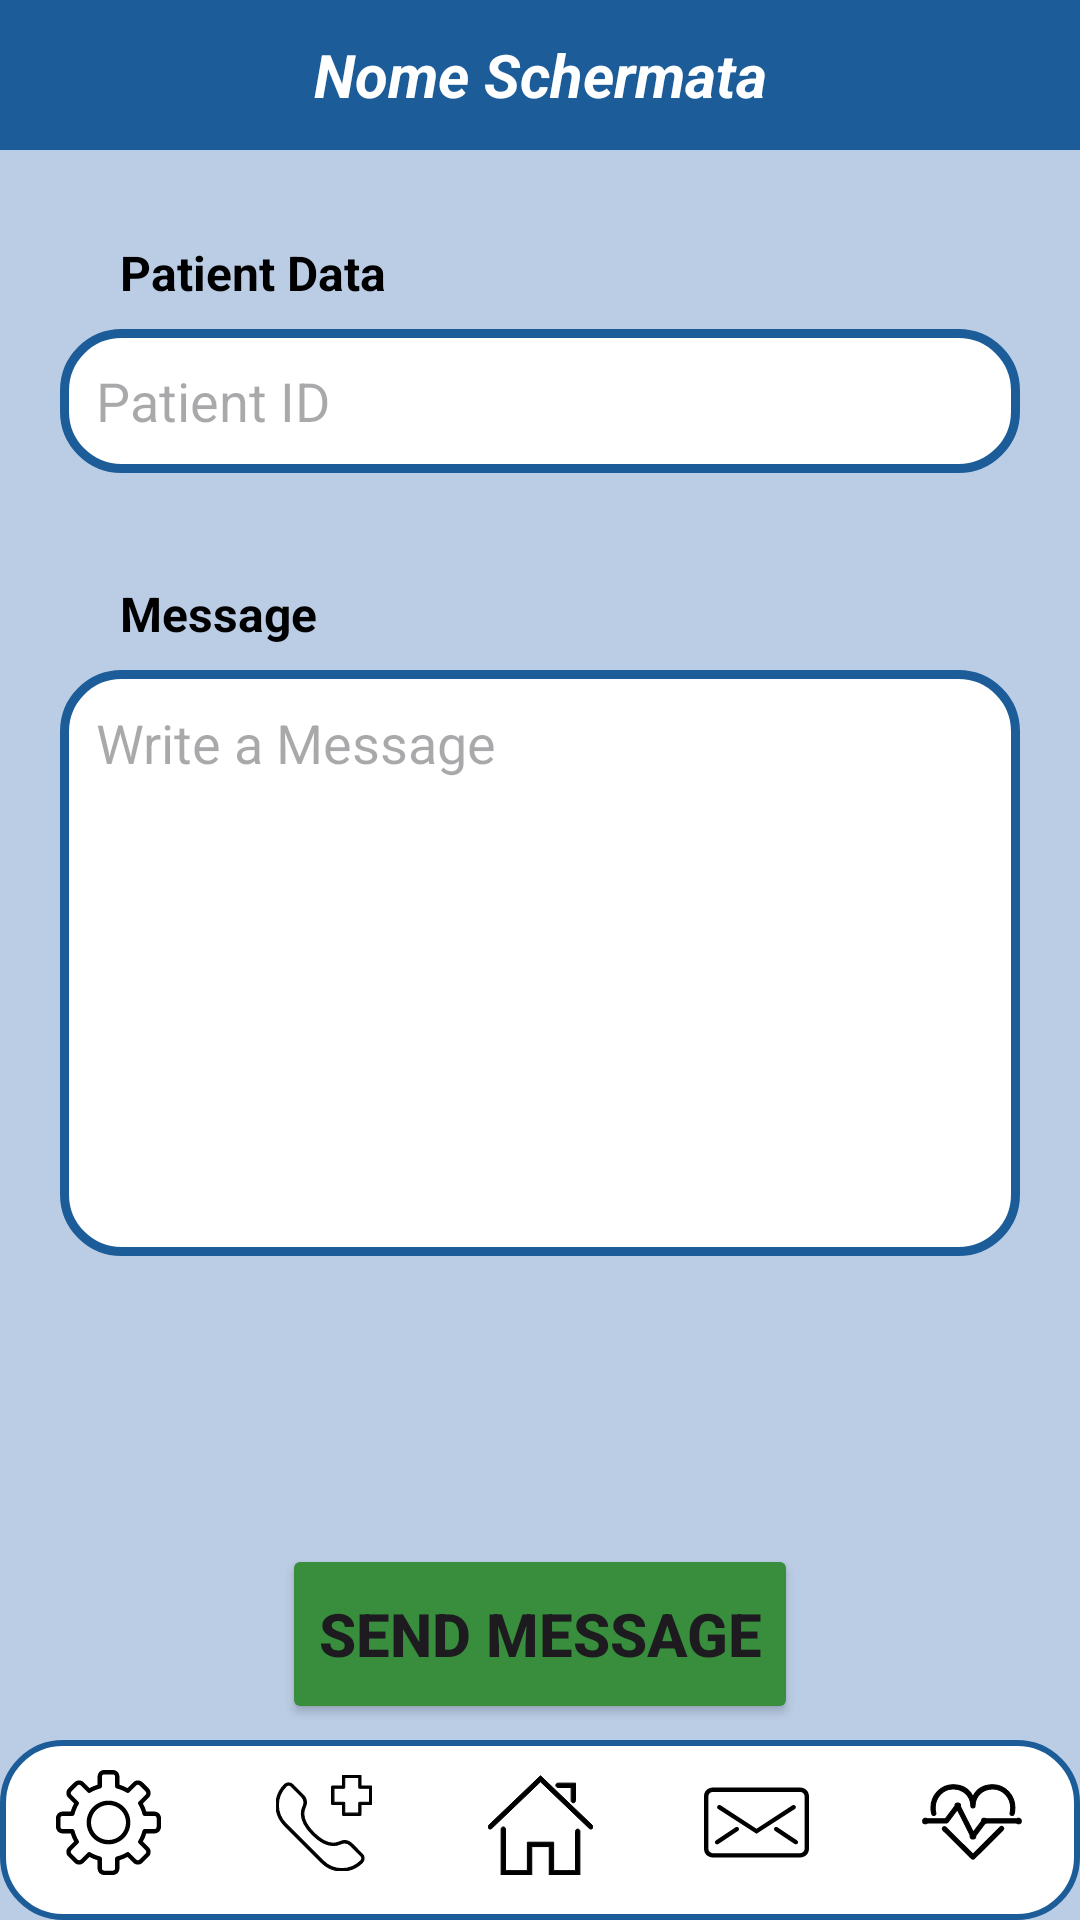

Where to tap for icons on this 1080w x 1920h app screen, as [x,y]:
home: [540,1825]
misurazioni: [972,1822]
setting: [108,1822]
sos: [324,1823]
